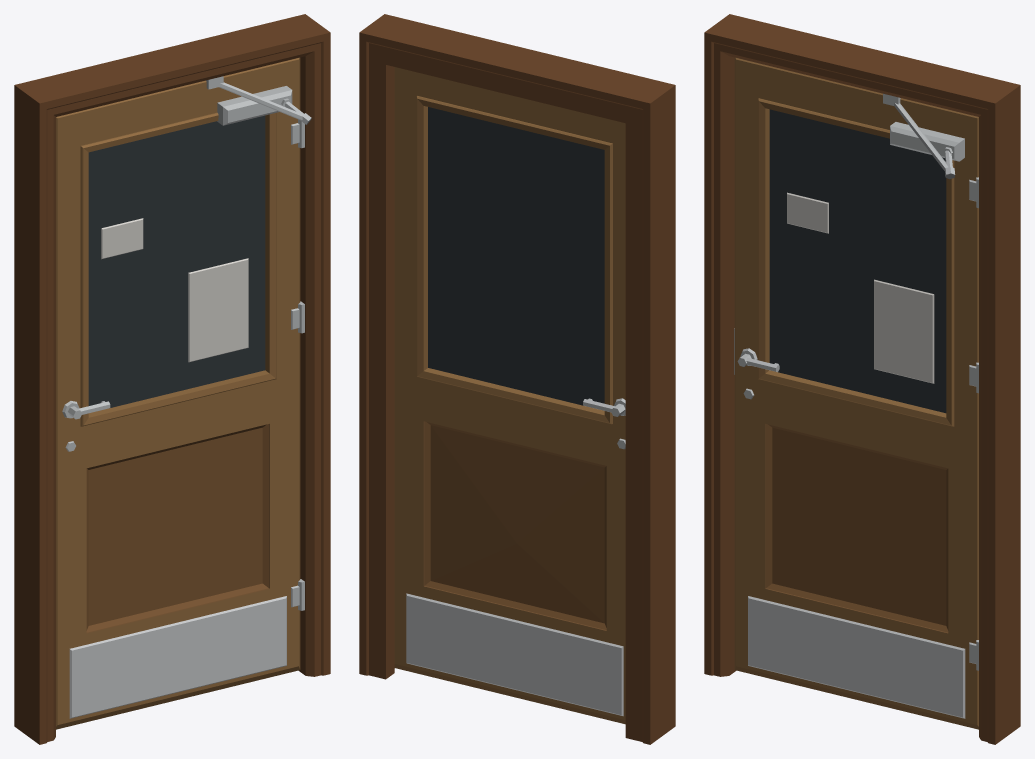
File: school-door-set-2523aa.glb
3 views of the same model, side by side, from view 1: azimuth 30°, elevation 25°; view 2: azimuth 150°, elevation 25°; view 3: azimuth 330°, elevation 25° (orthographic).
Visible parts, largest first — view 1: door-leaf, school-door-set, closer-arm; view 2: door-leaf, school-door-set; view 3: door-leaf, school-door-set, closer-arm.
Part boxes in pixels (x1,y1,x2,y2): door-leaf: (56, 57, 304, 729); school-door-set: (14, 14, 330, 744); closer-arm: (219, 82, 303, 119); door-leaf: (394, 67, 625, 724); school-door-set: (359, 14, 675, 744); door-leaf: (734, 57, 978, 729); school-door-set: (704, 14, 1020, 744); closer-arm: (894, 103, 948, 171).
Bounding box in the file's own units: 0.996 × 2.1 × 0.2304.
